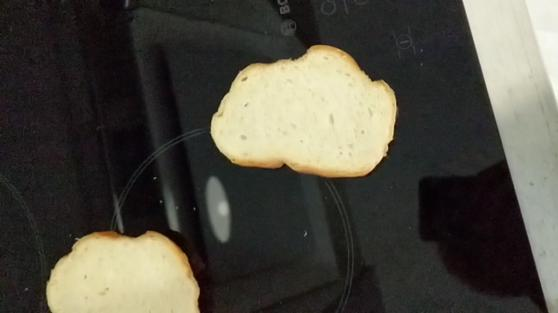white_bread: (205, 42, 397, 175), (43, 231, 201, 313)
